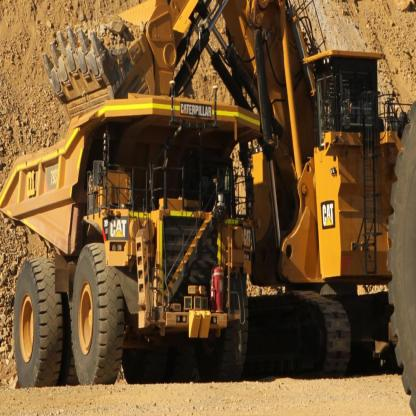dump_truck: (2, 98, 268, 397)
excavator: (38, 5, 408, 374)
